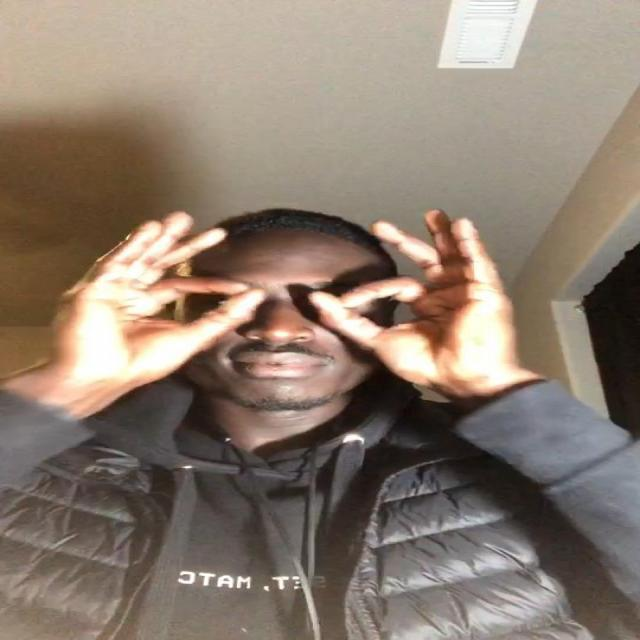face: (177, 244, 397, 413)
